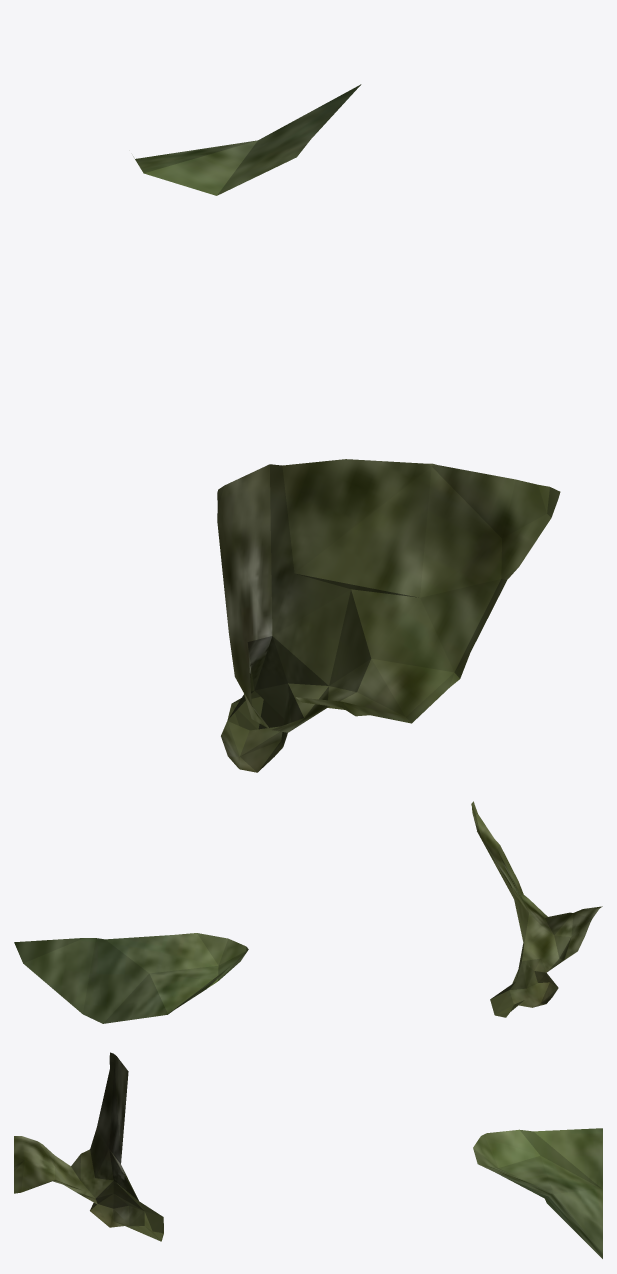
The picture shows the model from 3 angles, top to bottom: view 1: azimuth 30°, elevation 25°; view 2: azimuth 150°, elevation 25°; view 3: azimuth 270°, elevation 25°; orthographic projection. The views are drawn at different scales.
Bounding box in the file's own units: 2.16 × 0.9141 × 2.95.
Materials: 1 (1 with a texture image).
